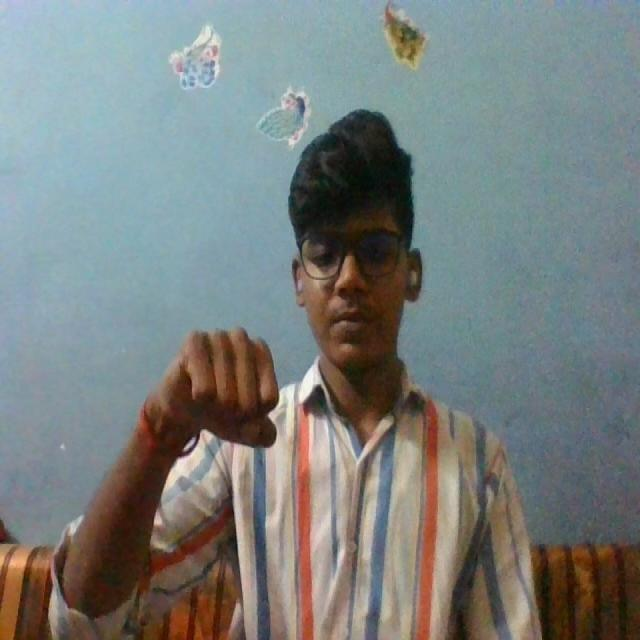Yes: (146, 324, 288, 461)
